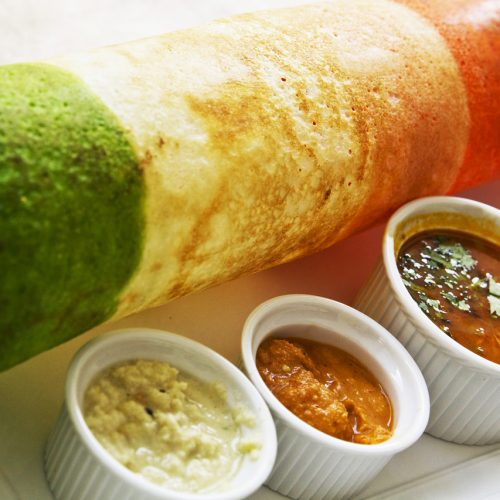dosa: (2, 3, 500, 374)
